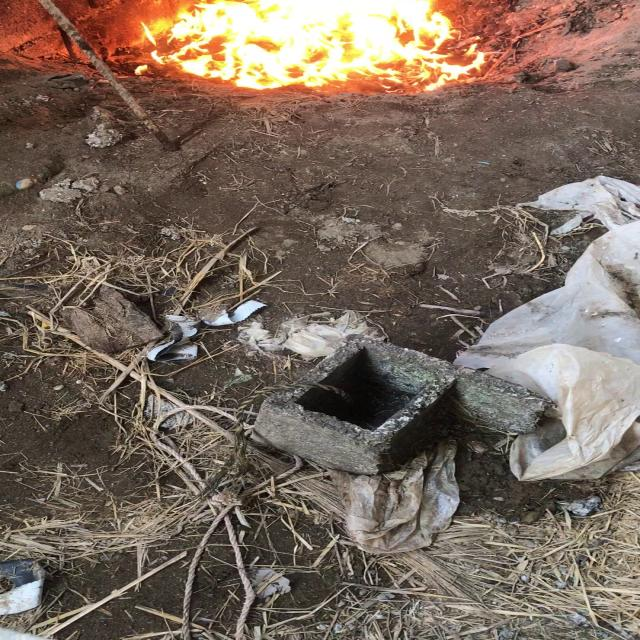fire: (140, 3, 472, 87)
